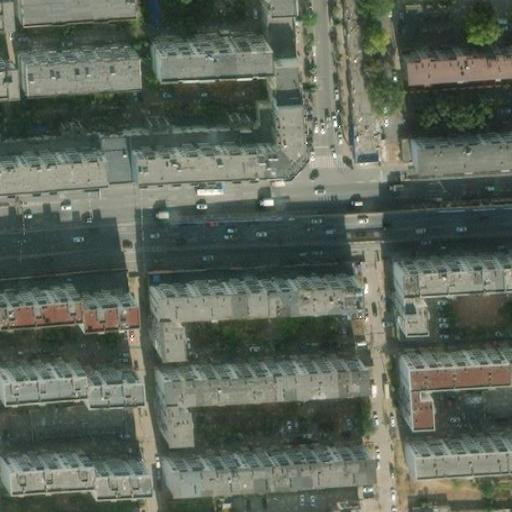building: (94, 54, 296, 173), (144, 273, 353, 356), (150, 359, 358, 439), (127, 84, 296, 171), (384, 249, 512, 319), (155, 439, 359, 479), (393, 340, 512, 408), (392, 9, 512, 52), (4, 38, 123, 81), (142, 30, 251, 69), (395, 43, 512, 79), (400, 431, 512, 465), (409, 127, 512, 162), (258, 10, 291, 56), (406, 498, 499, 512), (493, 91, 512, 108)
